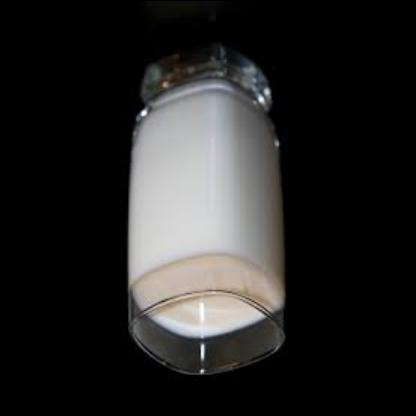milk: (122, 76, 286, 340)
